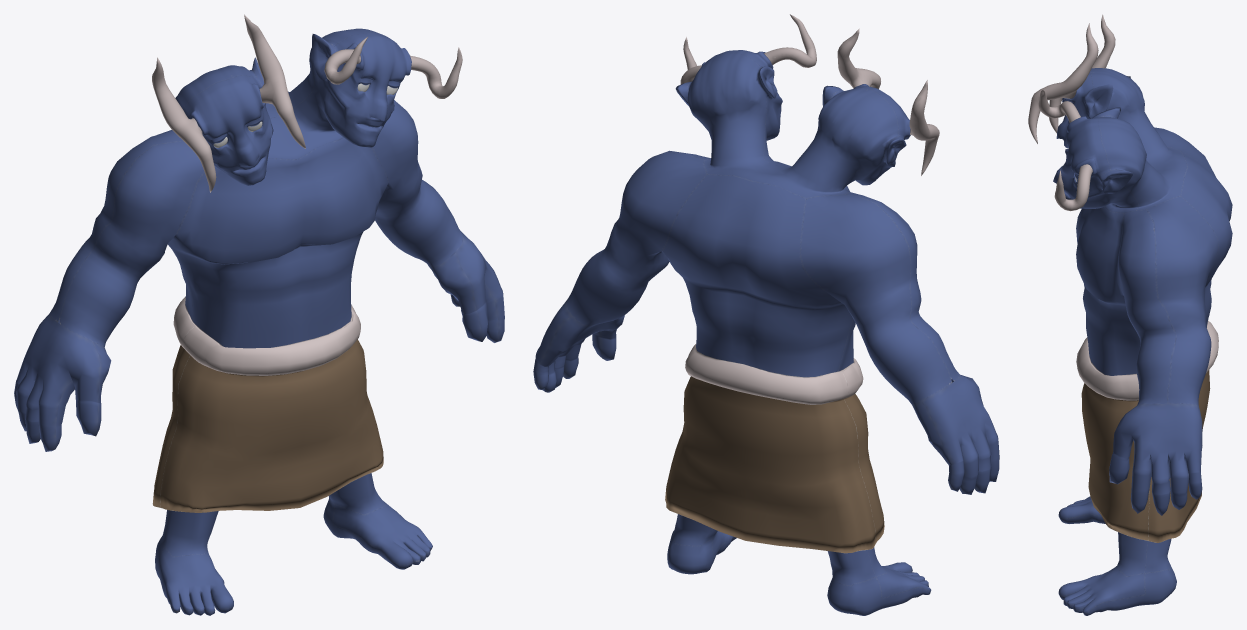
The model's file is Blue_Oni.fbx.
3 views of the same model, side by side, from view 1: azimuth 30°, elevation 25°; view 2: azimuth 150°, elevation 25°; view 3: azimuth 270°, elevation 25° (orthographic). The views are drawn at different scales.
Visible parts, largest first — view 1: pCylinder28; view 2: pCylinder28; view 3: pCylinder28.
Part boxes in pixels (bbox=[...]): pCylinder28: bbox=[14, 14, 504, 615]; pCylinder28: bbox=[533, 14, 999, 615]; pCylinder28: bbox=[1028, 14, 1232, 615].
Bounding box in the file's own units: 15.94 × 18.93 × 6.81.
